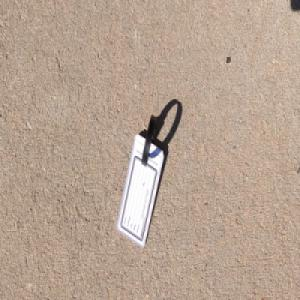LuggageTag: (115, 114, 164, 249)
